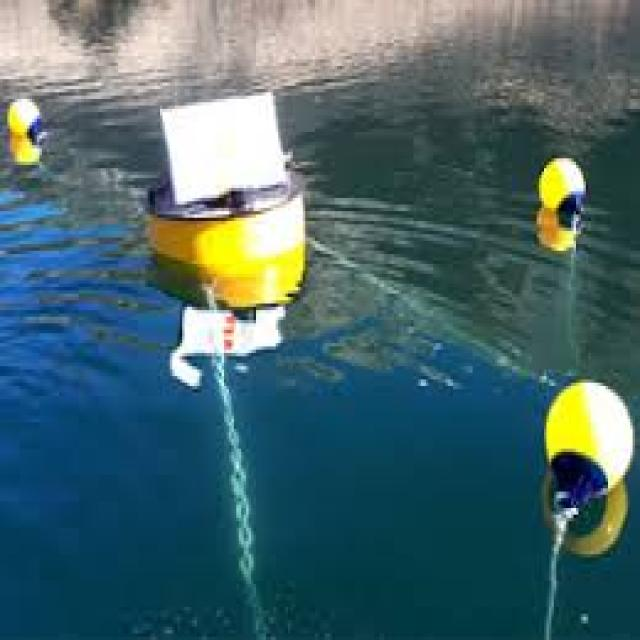buoy: (127, 85, 330, 341), (542, 369, 639, 529), (531, 150, 598, 240), (7, 85, 58, 188)
